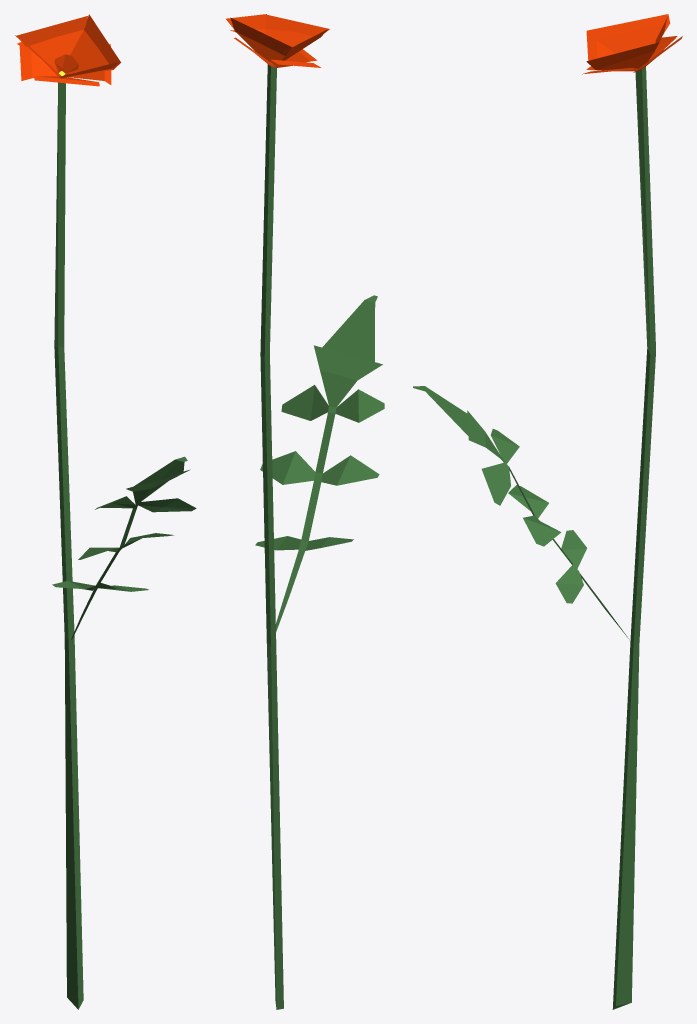
Rendered from flowervalmue01.gltf.
The picture shows the model from 3 angles, left to right: view 1: azimuth 30°, elevation 25°; view 2: azimuth 150°, elevation 25°; view 3: azimuth 270°, elevation 25°; orthographic projection. The views are drawn at different scales.
Parts seen in each view (by area): view 1: Cylinder; view 2: Cylinder; view 3: Cylinder.
Boxes of the visible parts, x1,y1,x2,y2 form: Cylinder: (15, 14, 196, 1009); Cylinder: (226, 14, 384, 1009); Cylinder: (413, 14, 682, 1009).
Size of the model in its own units: 0.0753 by 0.6529 by 0.1621.
Materials: 1 (1 with a texture image).
